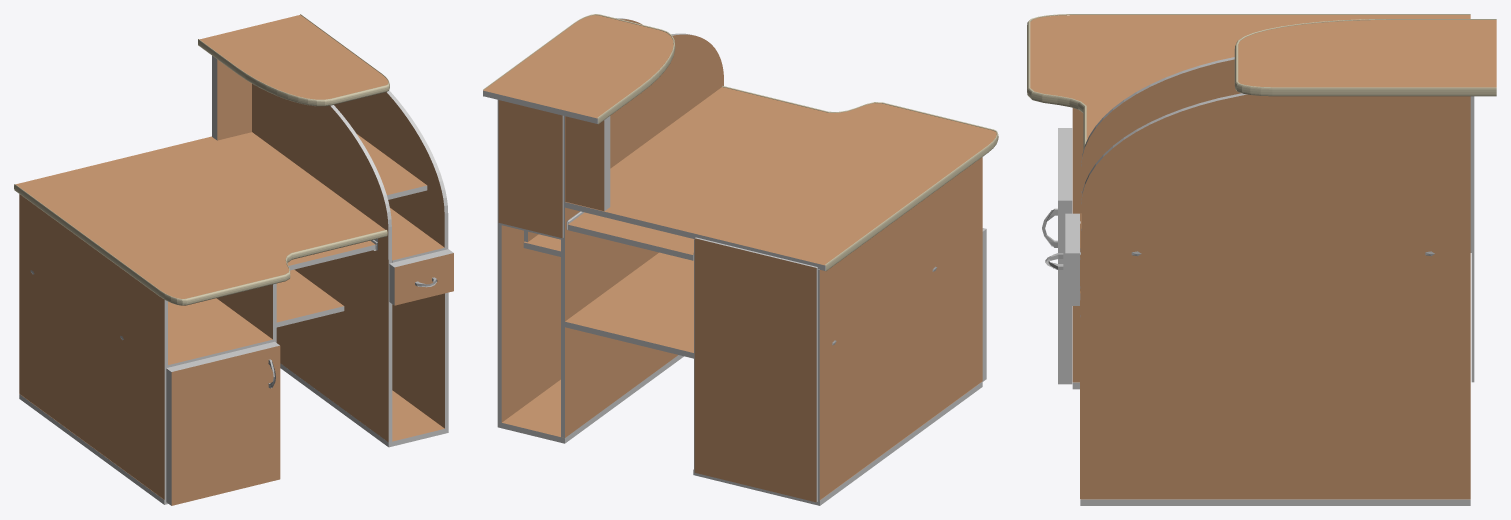
File: sh-bs0-desk.glb
The picture shows the model from 3 angles, left to right: view 1: azimuth 30°, elevation 25°; view 2: azimuth 150°, elevation 25°; view 3: azimuth 270°, elevation 25°; orthographic projection. The views are drawn at different scales.
Parts seen in each view (by area): view 1: Desk_desk_main, Contour; view 2: Desk_desk_main, Contour; view 3: Desk_desk_main, Contour, Handles_Plane.004.
Part boxes in pixels (bbox=[...]): Desk_desk_main: bbox=[16, 15, 453, 505]; Contour: bbox=[14, 14, 389, 305]; Desk_desk_main: bbox=[483, 15, 996, 505]; Contour: bbox=[483, 14, 998, 271]; Desk_desk_main: bbox=[1030, 15, 1496, 505]; Contour: bbox=[1027, 14, 1496, 149]; Handles_Plane.004: bbox=[1042, 208, 1434, 269].
Bounding box in the file's own units: 1 × 1 × 1.
